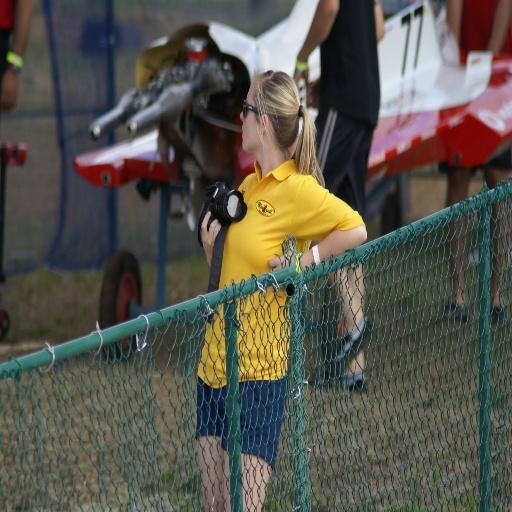hand: (194, 196, 225, 264), (1, 67, 19, 109), (267, 246, 296, 272), (308, 78, 322, 114), (292, 67, 308, 85)
